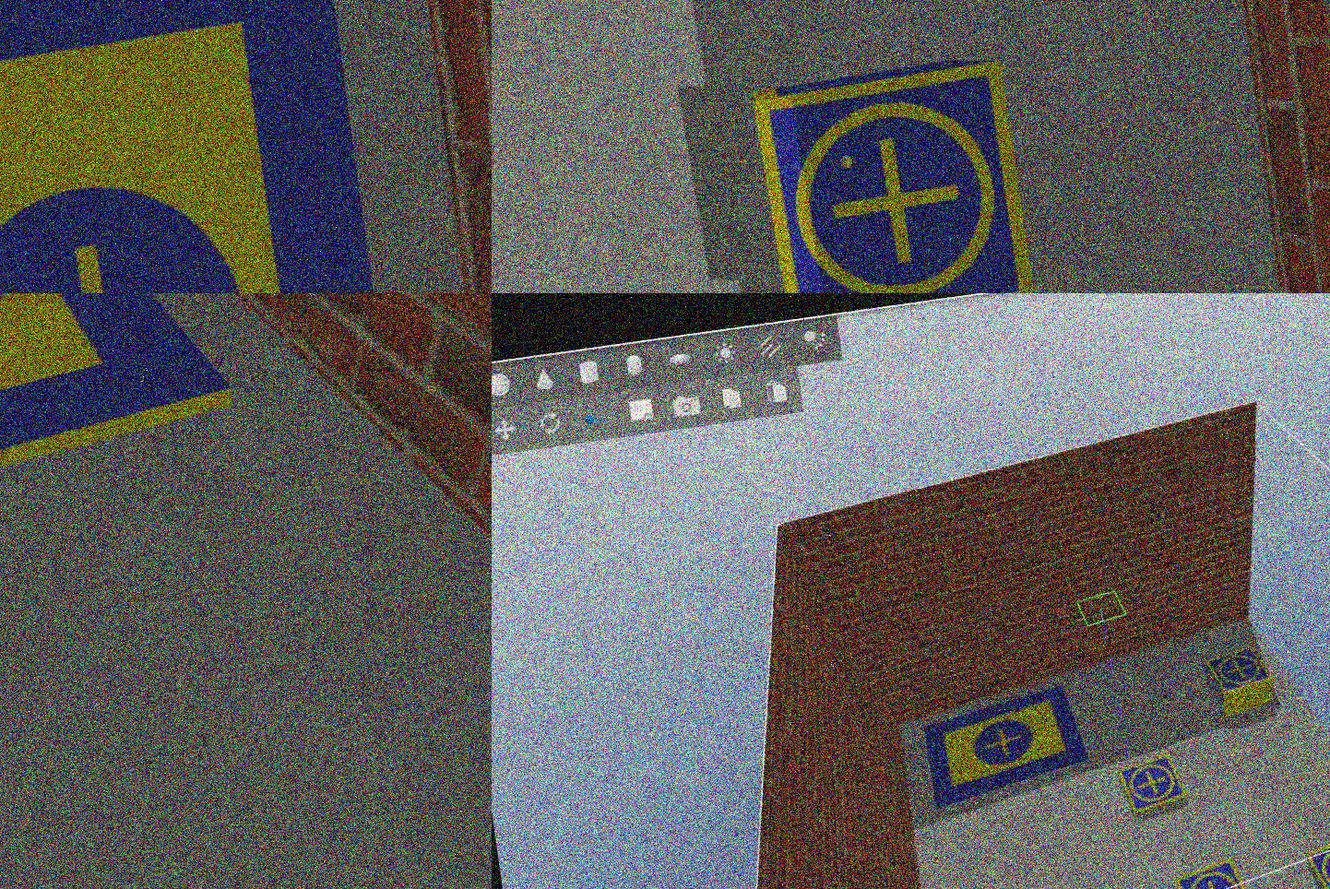large_base: (1, 1, 396, 293), (1, 293, 251, 573), (923, 682, 1094, 809)
small_base: (754, 64, 1032, 293), (1117, 753, 1193, 823), (1205, 646, 1279, 698), (1176, 858, 1261, 889)
